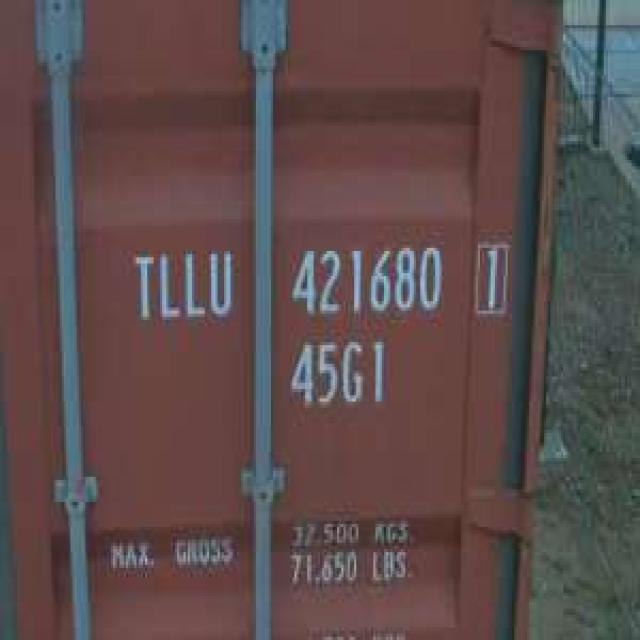dv: (472, 229, 514, 327)
owner: (130, 237, 238, 326)
serial: (286, 233, 450, 324)
size: (281, 332, 400, 418)
